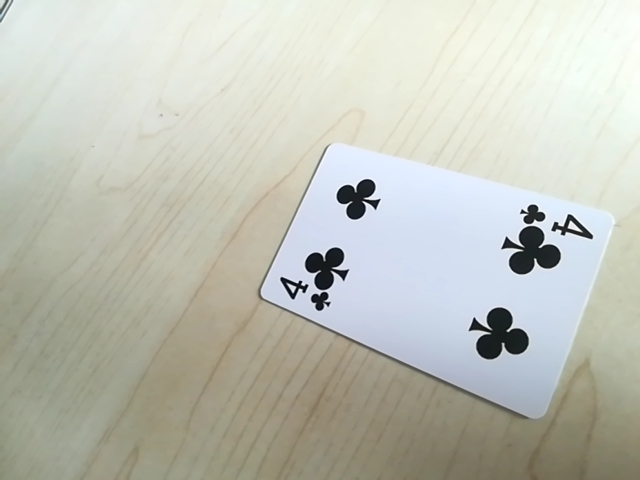mh 4: (519, 202, 594, 238), (274, 276, 338, 315)
